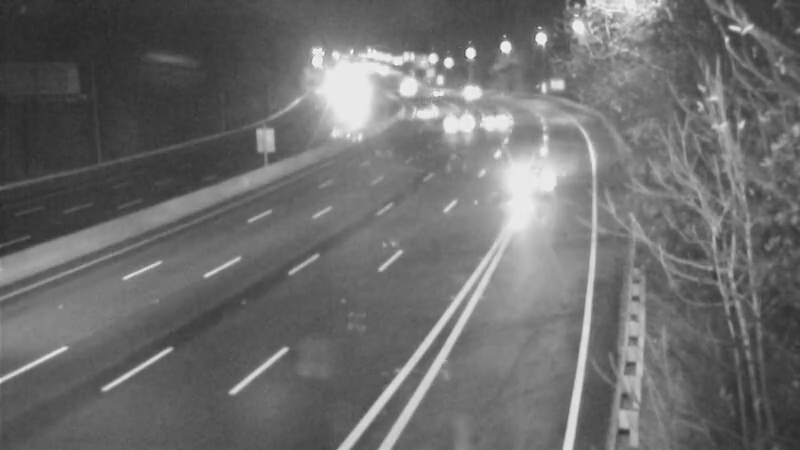vehicle: (499, 137, 579, 217), (441, 62, 491, 112), (385, 62, 435, 112), (408, 67, 458, 117), (397, 83, 447, 133), (432, 96, 482, 146), (469, 101, 519, 151)
